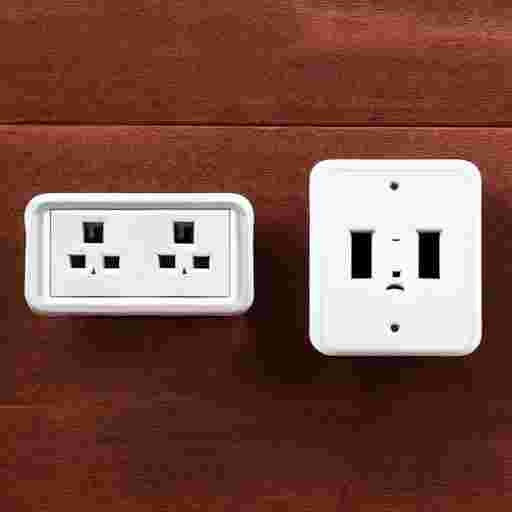power outlet: (309, 159, 481, 355), (25, 193, 253, 315)
